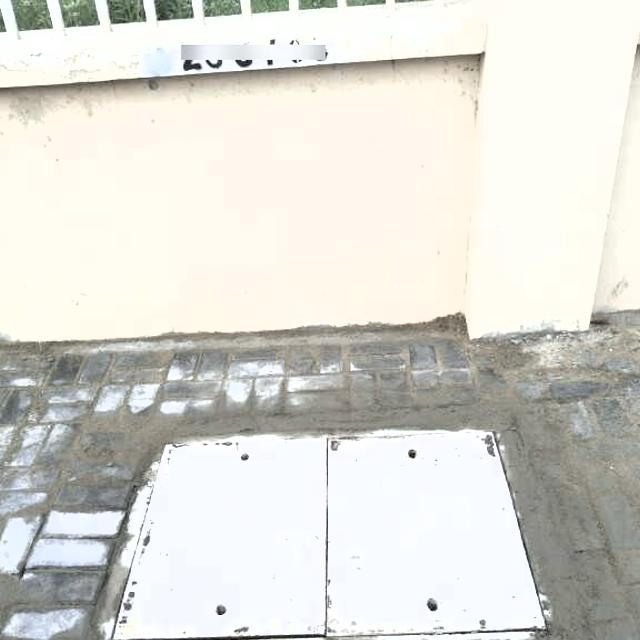good: (95, 428, 551, 640)
